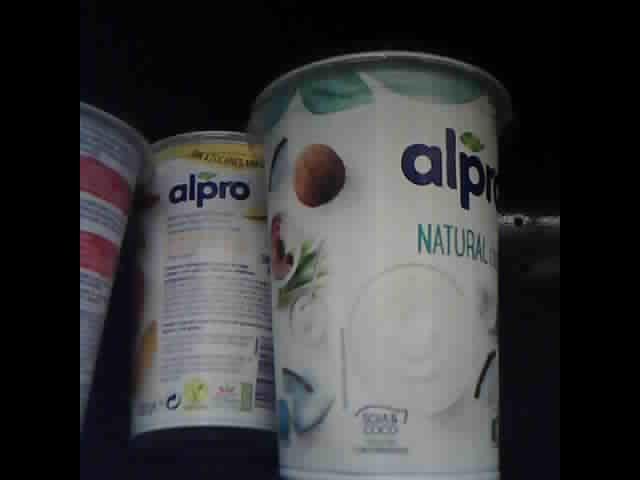alpro: (246, 50, 512, 480), (131, 127, 280, 435), (80, 98, 152, 433)
